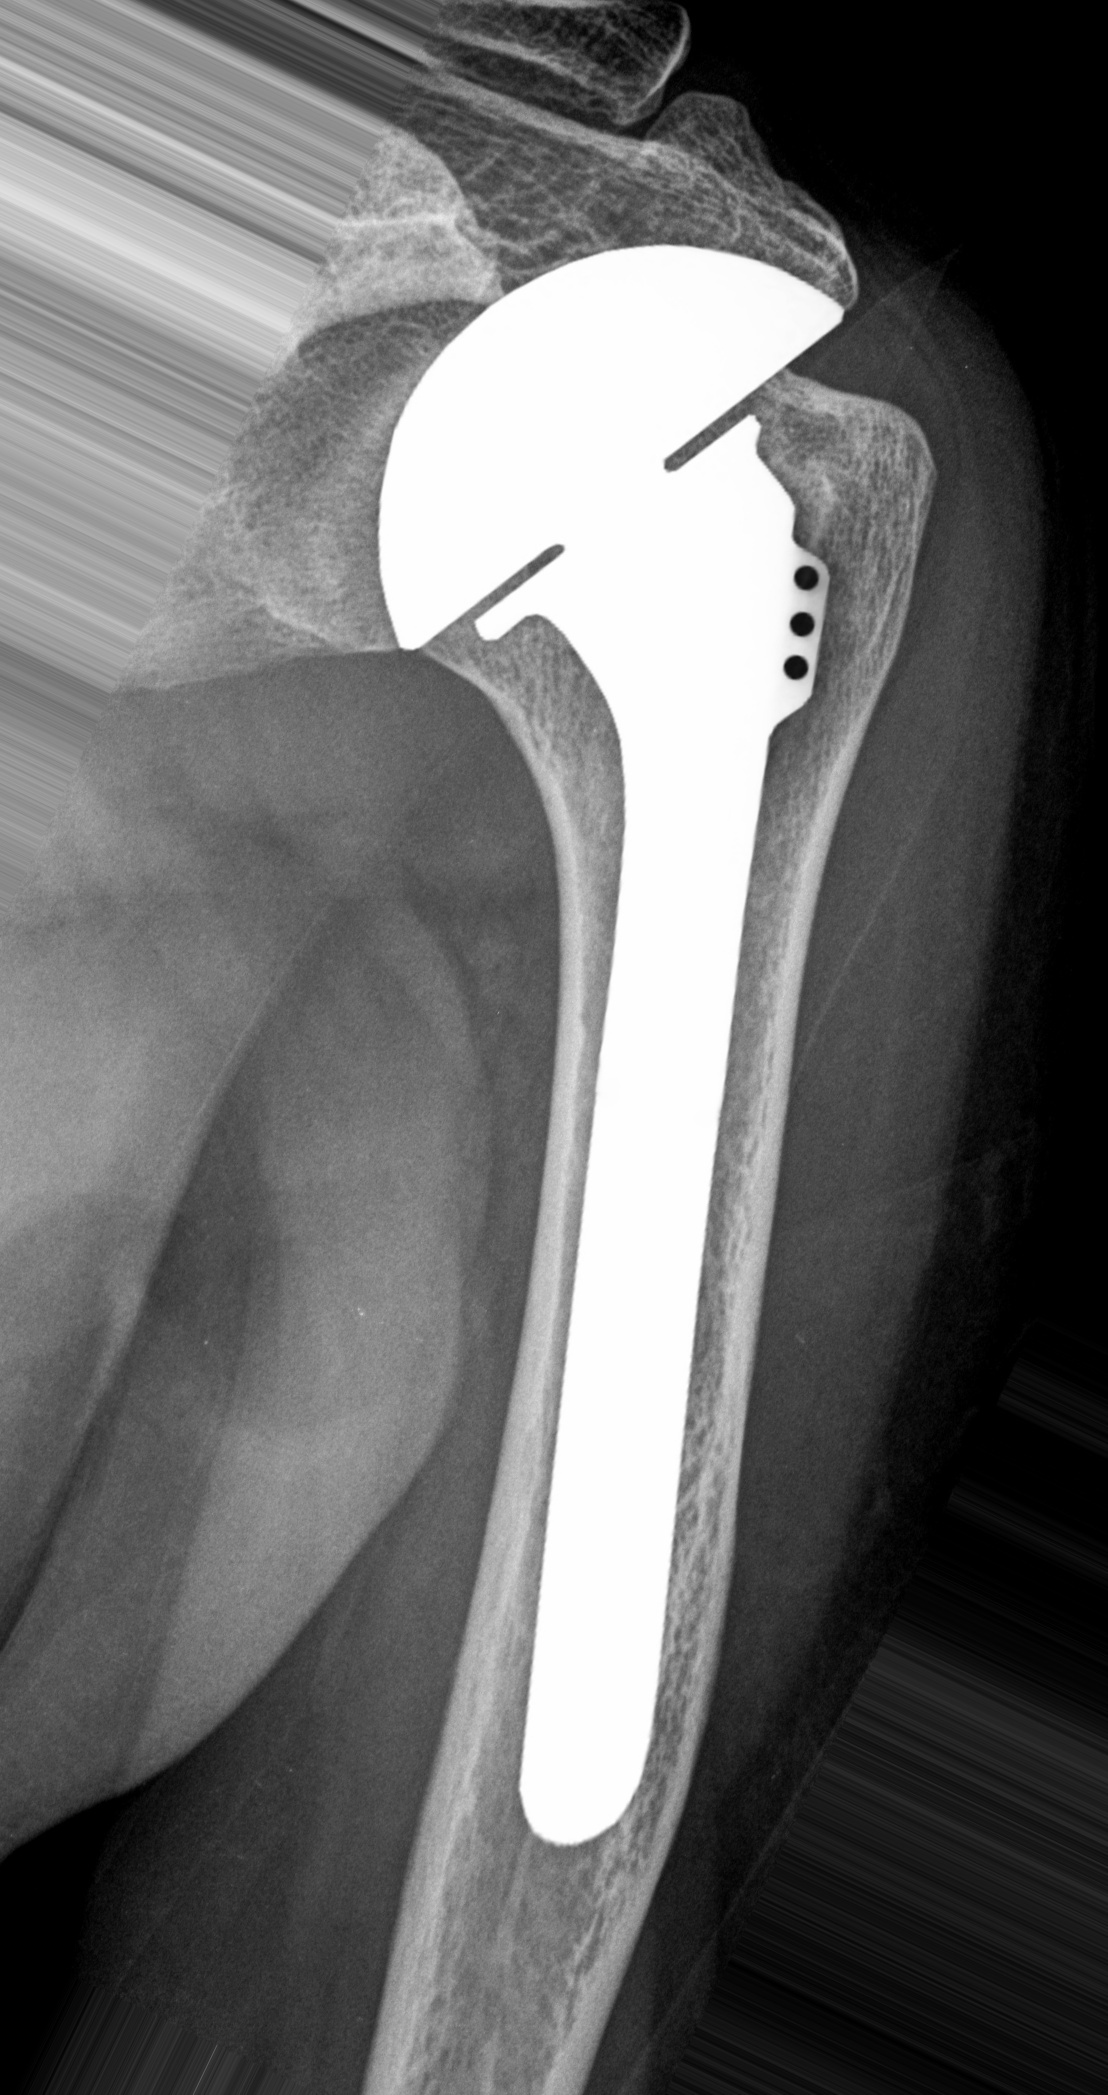Shoulder-Olympia-Wright: (292, 247, 864, 1859)
